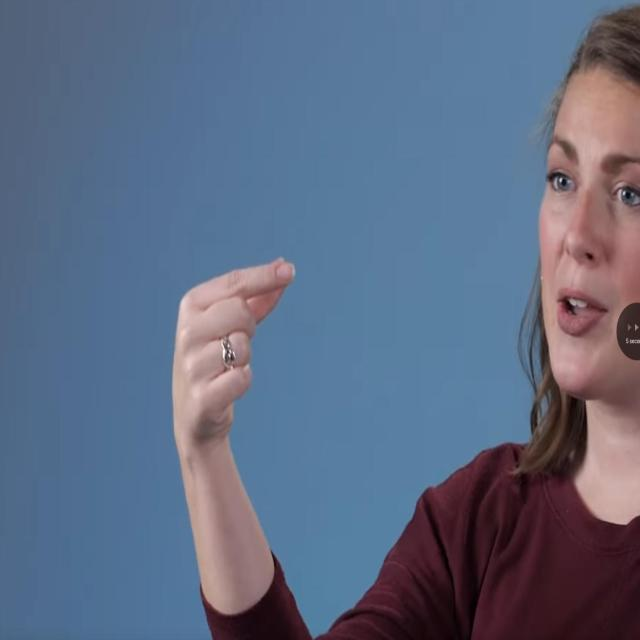G: (168, 252, 300, 453)
